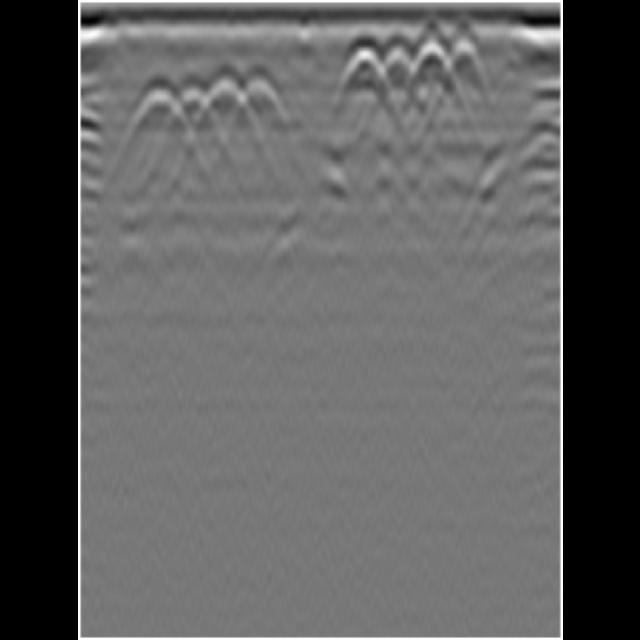hyperbola: (228, 71, 288, 135), (128, 82, 184, 146), (168, 78, 216, 142), (198, 76, 250, 134), (441, 32, 492, 84), (408, 40, 460, 90), (338, 44, 384, 100), (381, 44, 419, 88)
